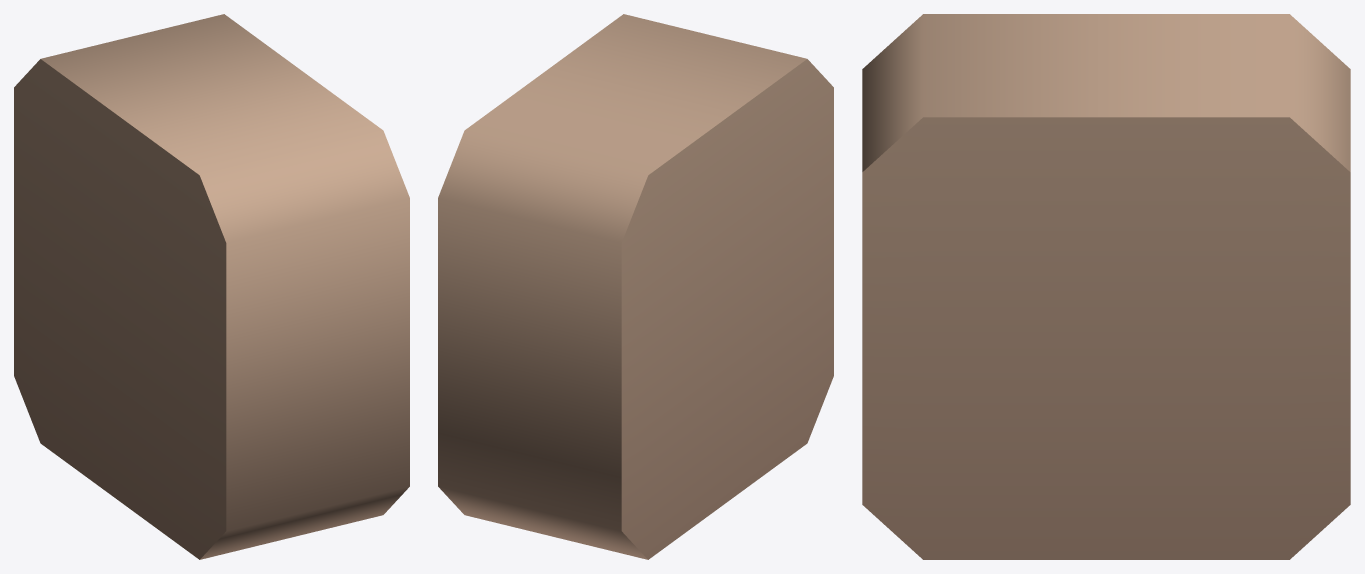
The model's file is brick-square (%wall).glb.
3 renders of one model, left to right at view 1: azimuth 30°, elevation 25°; view 2: azimuth 150°, elevation 25°; view 3: azimuth 270°, elevation 25°, orthographic. The views are drawn at different scales.
Visible parts, largest first — view 1: brick-square (%wall); view 2: brick-square (%wall); view 3: brick-square (%wall).
Boxes of the visible parts, x1=… form: brick-square (%wall): x1=14, y1=14, x2=409, y2=559; brick-square (%wall): x1=438, y1=14, x2=833, y2=559; brick-square (%wall): x1=862, y1=14, x2=1350, y2=559.
Bounding box in the file's own units: 0.1 × 0.2 × 0.2.
